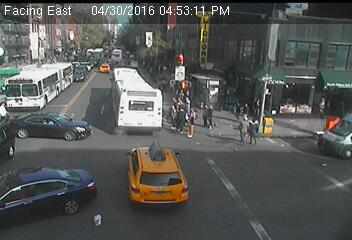neg: (154, 61, 175, 90), (261, 173, 278, 195), (296, 85, 311, 105), (73, 66, 88, 85), (93, 213, 103, 226)
pos: (178, 105, 204, 139), (233, 117, 254, 145), (244, 120, 261, 143)
